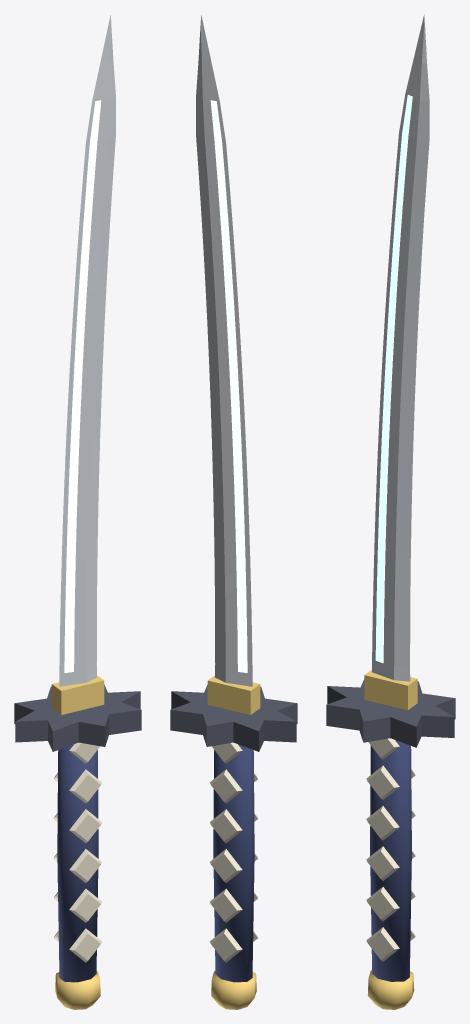
Rendered from Stormfang_Katana.fbx.
The picture shows the model from 3 angles, left to right: view 1: azimuth 30°, elevation 25°; view 2: azimuth 150°, elevation 25°; view 3: azimuth 330°, elevation 25°; orthographic projection.
Parts seen in each view (by area): view 1: Stormfang_Katana_Blade, Stormfang_Katana_Grip, Stormfang_Katana_Glow, Stormfang_Katana_Guard, Stormfang_Katana_Wrap, Stormfang_Katana_Collar, Stormfang_Katana_Pommel; view 2: Stormfang_Katana_Blade, Stormfang_Katana_Grip, Stormfang_Katana_Glow, Stormfang_Katana_Guard, Stormfang_Katana_Wrap, Stormfang_Katana_Collar, Stormfang_Katana_Pommel; view 3: Stormfang_Katana_Blade, Stormfang_Katana_Grip, Stormfang_Katana_Guard, Stormfang_Katana_Glow, Stormfang_Katana_Wrap, Stormfang_Katana_Collar, Stormfang_Katana_Pommel.
Part boxes in pixels (x1,y1,x2,y2): Stormfang_Katana_Blade: [59, 15, 115, 686]; Stormfang_Katana_Grip: [57, 744, 98, 982]; Stormfang_Katana_Glow: [64, 100, 101, 672]; Stormfang_Katana_Guard: [14, 685, 141, 751]; Stormfang_Katana_Wrap: [54, 742, 101, 962]; Stormfang_Katana_Collar: [51, 675, 104, 714]; Stormfang_Katana_Pommel: [55, 971, 100, 1009]; Stormfang_Katana_Blade: [196, 15, 252, 686]; Stormfang_Katana_Grip: [213, 744, 254, 982]; Stormfang_Katana_Glow: [210, 100, 247, 672]; Stormfang_Katana_Guard: [170, 685, 297, 751]; Stormfang_Katana_Wrap: [210, 742, 257, 962]; Stormfang_Katana_Collar: [207, 675, 260, 714]; Stormfang_Katana_Pommel: [211, 971, 256, 1009]; Stormfang_Katana_Blade: [372, 14, 429, 681]; Stormfang_Katana_Grip: [370, 740, 411, 981]; Stormfang_Katana_Guard: [326, 679, 455, 747]; Stormfang_Katana_Glow: [375, 95, 412, 663]; Stormfang_Katana_Wrap: [366, 738, 415, 961]; Stormfang_Katana_Collar: [364, 670, 417, 710]; Stormfang_Katana_Pommel: [367, 970, 414, 1009].
Bounding box in the file's own units: 38 × 285 × 28.5.
